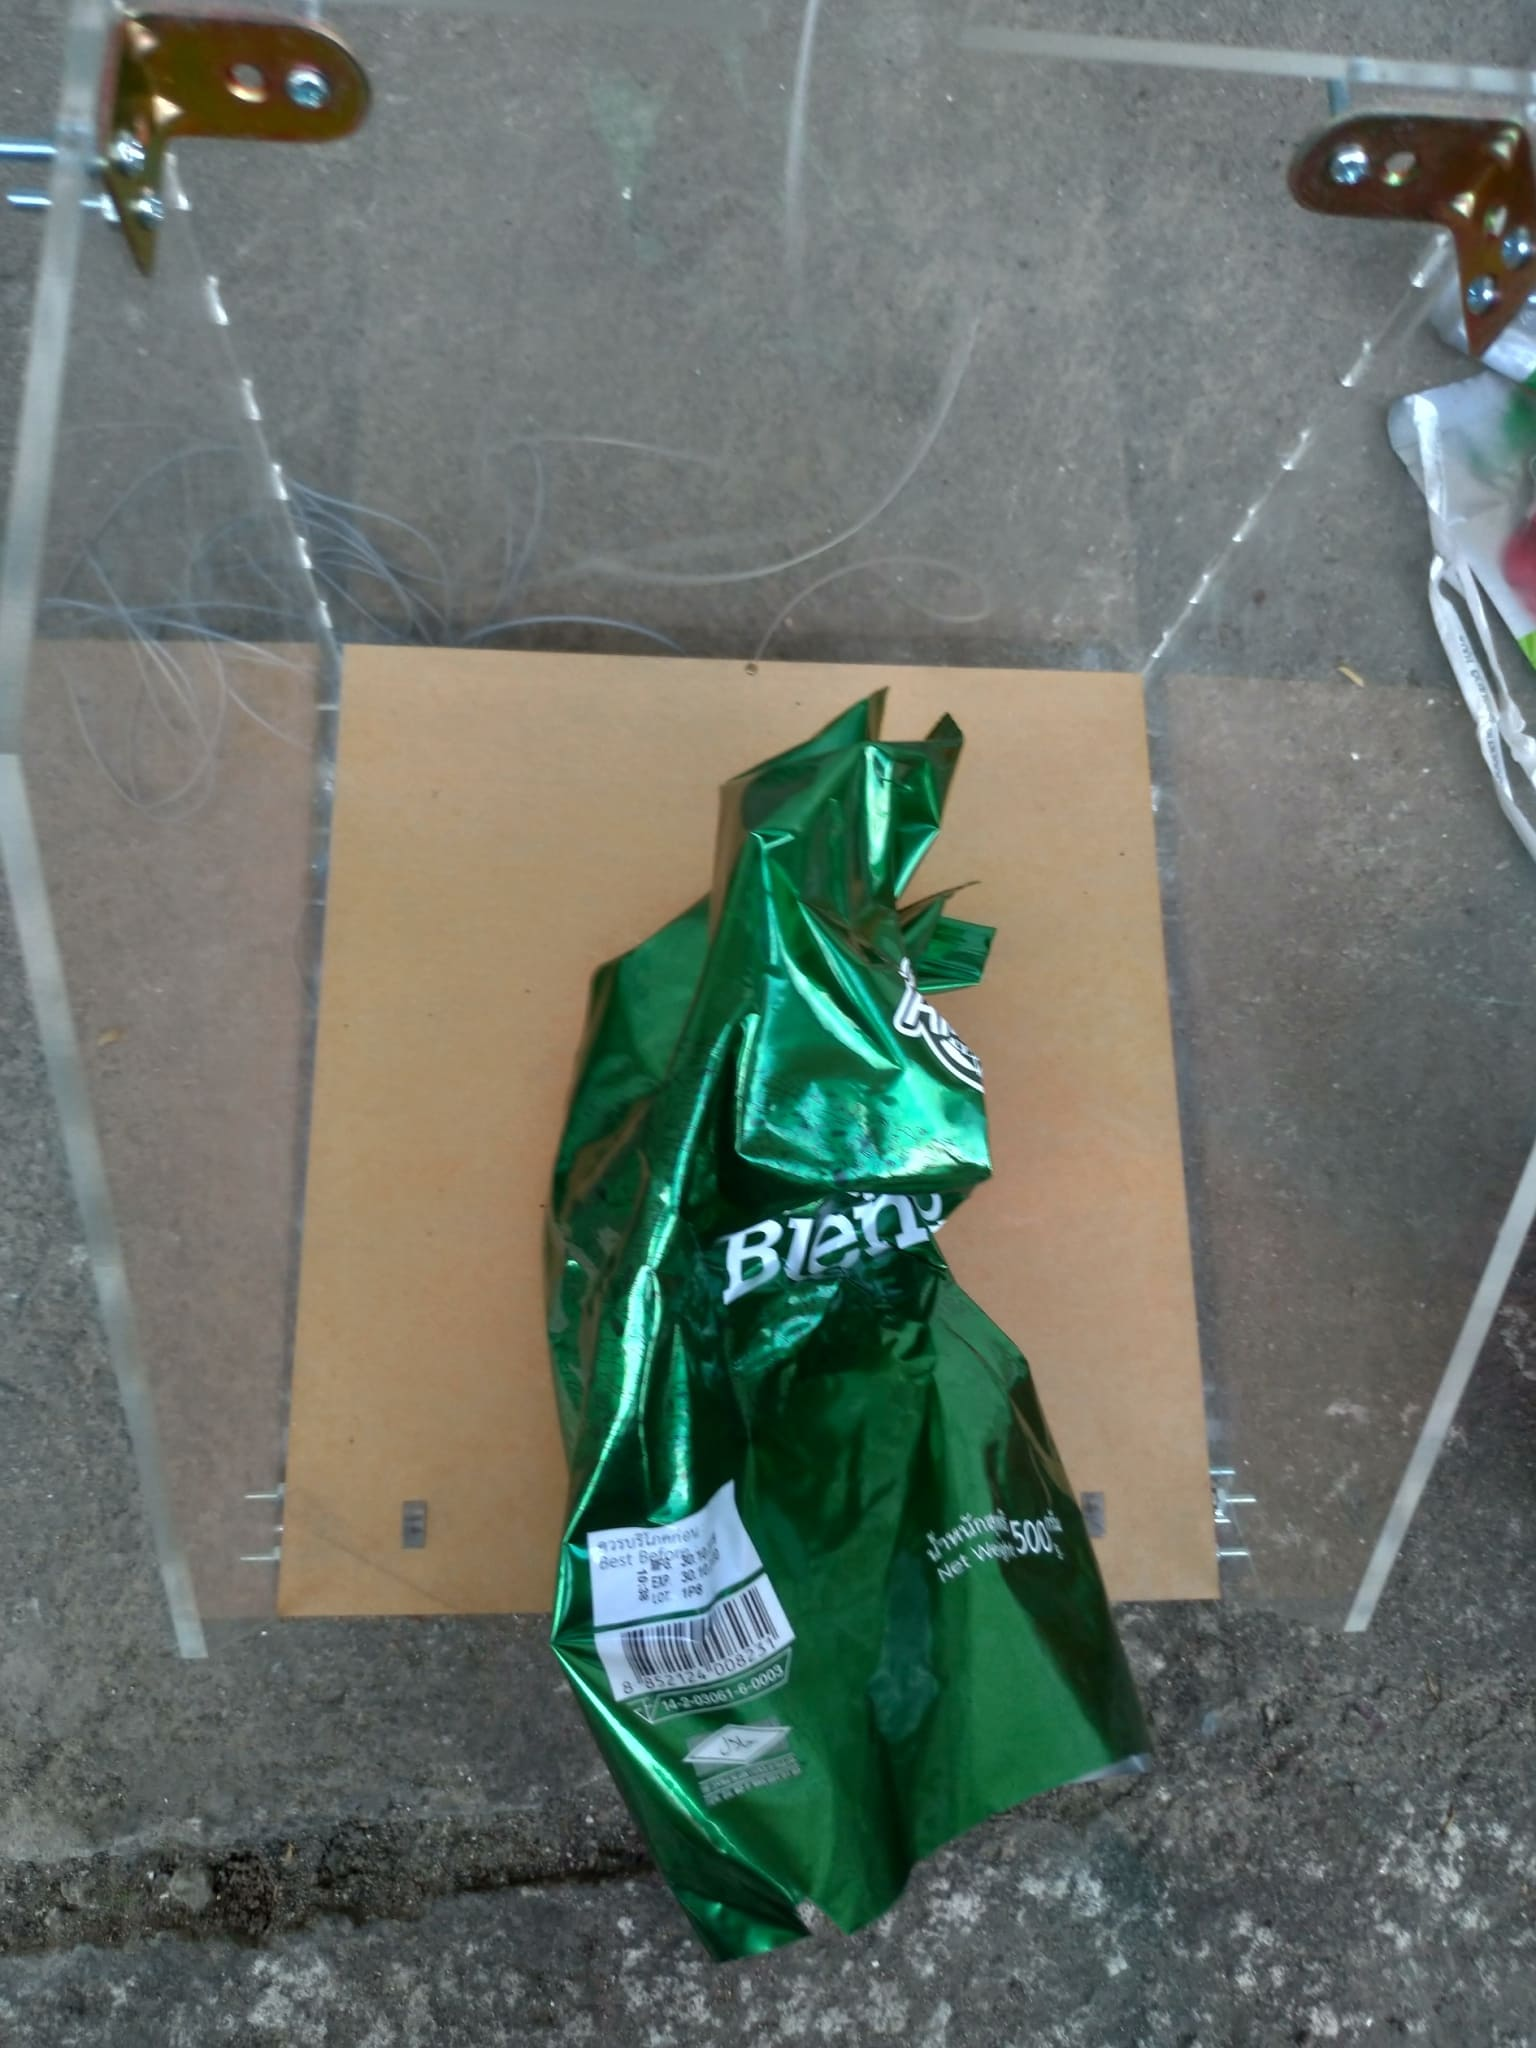Others: (523, 695, 1170, 1958)
